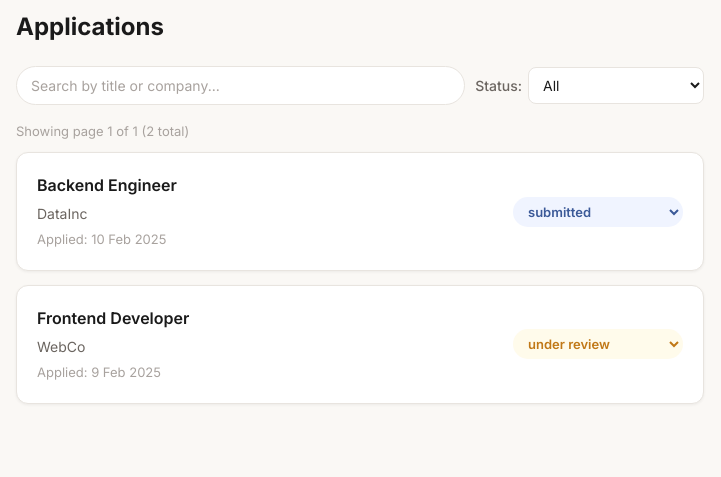
Test case: ApplicationDashboard › shows error and retains previous status on update failure (Req 6.6)
Check: the heading "Backend Engineer" is shown, box [37,175,177,195]
Select "rejected" in the dropdown named "Application status" in the row of "DataInc". click: (598, 212)
box: [513,197,683,227]
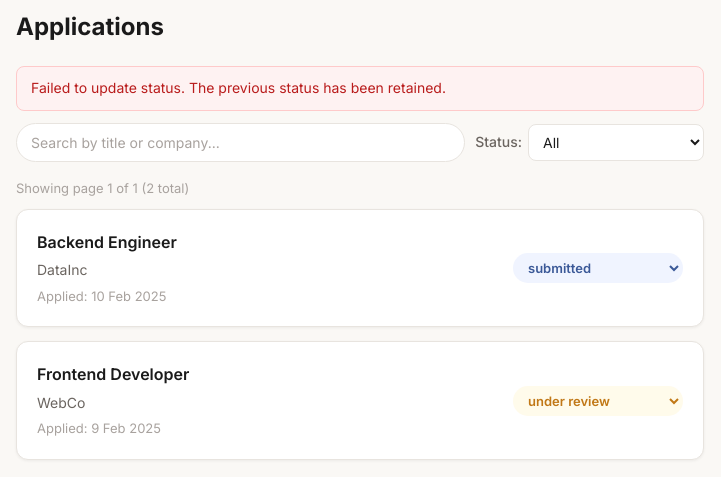
Check: the text "Failed to update status. The previous status has been retained." is shown, box [16,66,704,111]
